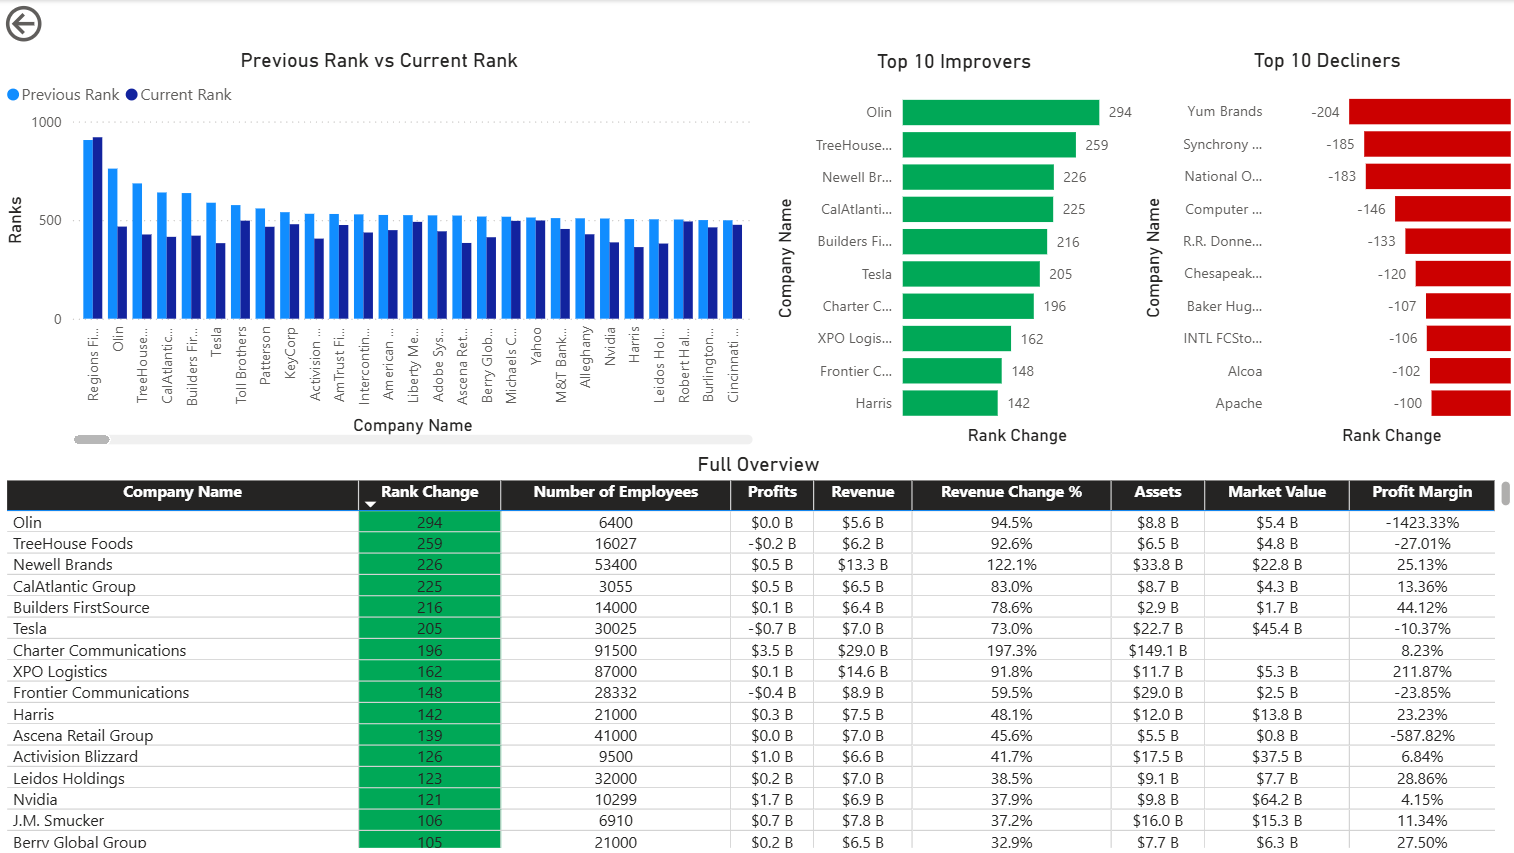

The page's visual inventory and layout, read from the dashboard file:
{"tool":"powerbi","page":{"name":"Page 2","canvas":[1280,720],"ordinal":1},"visuals":[{"type":"clusteredColumnChart","title":"Previous Rank vs Current Rank","fields":{"Category":["Fortune100_eval.Company Name"],"Y":["Sum(Fortune100_eval.Previous Rank)","Sum(Fortune100_eval.Rank)"]},"box":[0,40.4,640,339.7],"z":1000},{"type":"actionButton","box":[0,0,100,40],"z":1500},{"type":"clusteredBarChart","title":"Top 10 Improvers","fields":{"Category":["Fortune100_eval.Company Name"],"Y":["Sum(Fortune100_eval.Rank Change)"]},"box":[649.6,41.4,310.9,338.8],"z":2000},{"type":"clusteredBarChart","title":"Top 10 Decliners","fields":{"Category":["Fortune100_eval.Company Name"],"Y":["Max(Fortune100_eval.Rank Change)"]},"box":[960.5,40.4,319.5,339.7],"z":3000},{"type":"tableEx","title":"Full Overview","fields":{"Values":["Fortune100_eval.Company Name","Fortune100_eval.Rank Change","Sum(Fortune100_eval.Number of Employees)","Sum(Fortune100_eval.Profit_B)","Fortune100_eval.Revenue_B","Fortune100_eval.Revenue Change %","Sum(Fortune100_eval.Assets_B)","Sum(Fortune100_eval.MarketValue_B)","Sum(Fortune100_eval.ScaledPM)"]},"box":[0,381.1,1280,338.8],"z":4000}]}

Visuals, with their boxes in screenshot pixels (x1, y1, x2, y2), scaled from the page's 1280x720 canvas onto the 1514x853 screenshot:
"Previous Rank vs Current Rank" clusteredColumnChart: l=0, t=48, r=757, b=450
actionButton: l=0, t=0, r=118, b=47
"Top 10 Improvers" clusteredBarChart: l=768, t=49, r=1136, b=450
"Top 10 Decliners" clusteredBarChart: l=1136, t=48, r=1513, b=450
"Full Overview" tableEx: l=0, t=451, r=1513, b=852
